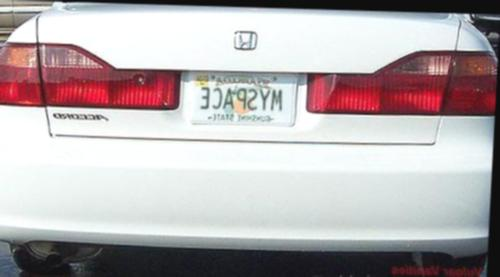License_Plate: (183, 70, 301, 132)
